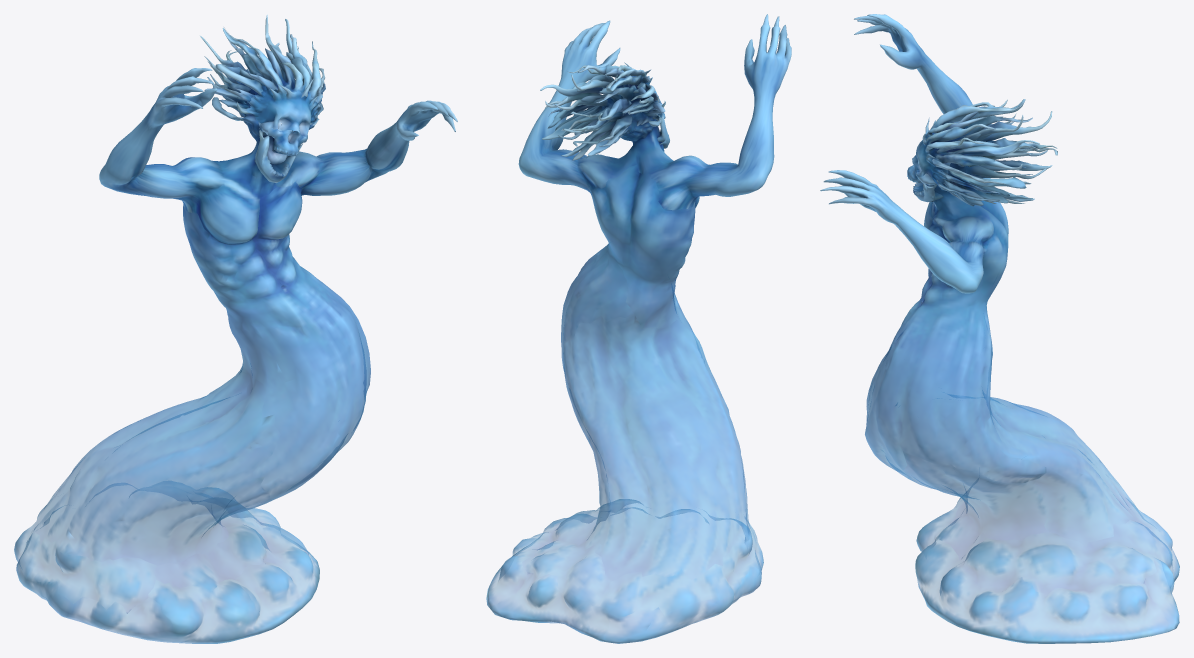
File: MZ4250 - Specter_blue.glb
3 views of the same model, side by side, from view 1: azimuth 30°, elevation 25°; view 2: azimuth 150°, elevation 25°; view 3: azimuth 270°, elevation 25° (orthographic). The views are drawn at different scales.
Visible parts, largest first — view 1: Body.002; view 2: Body.002; view 3: Body.002.
Boxes of the visible parts, x1,y1,x2,y2 form: Body.002: (14, 14, 457, 643); Body.002: (486, 14, 791, 643); Body.002: (820, 14, 1179, 643).
Size of the model in its own units: 58.91 by 112 by 66.02.
1 material, 1 textured.
